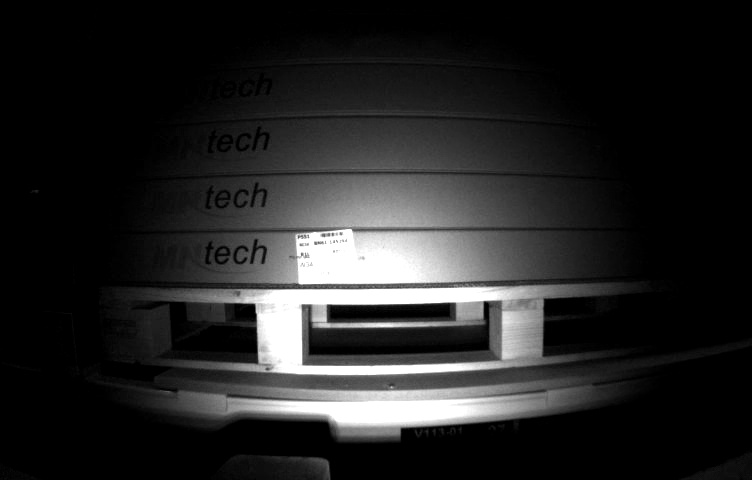True Barcode: (292, 230, 360, 281)
